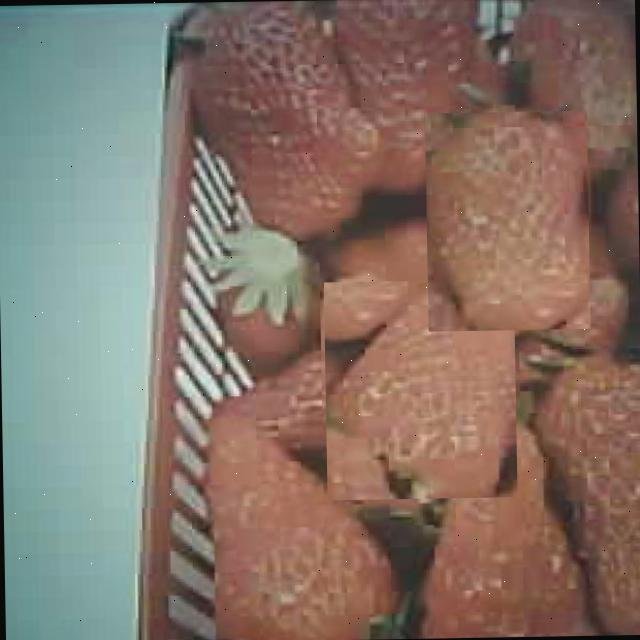ripe: (323, 280, 517, 500), (198, 425, 395, 640), (407, 424, 601, 638), (424, 110, 590, 331)
